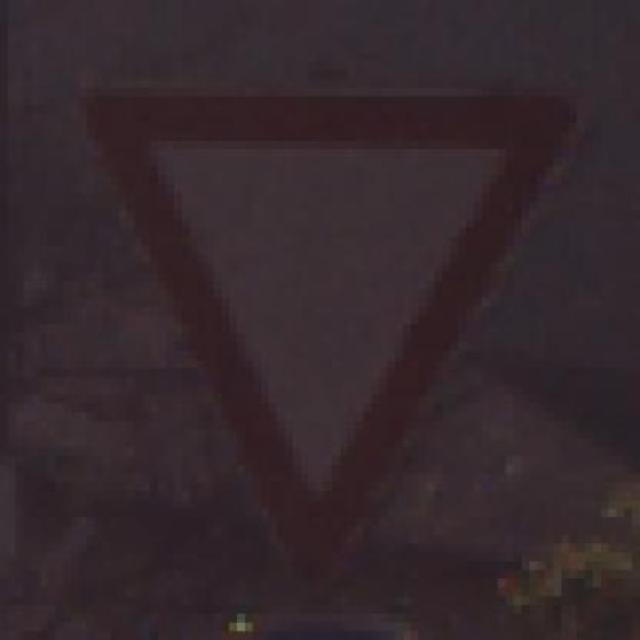Give Way: (70, 52, 584, 597)
